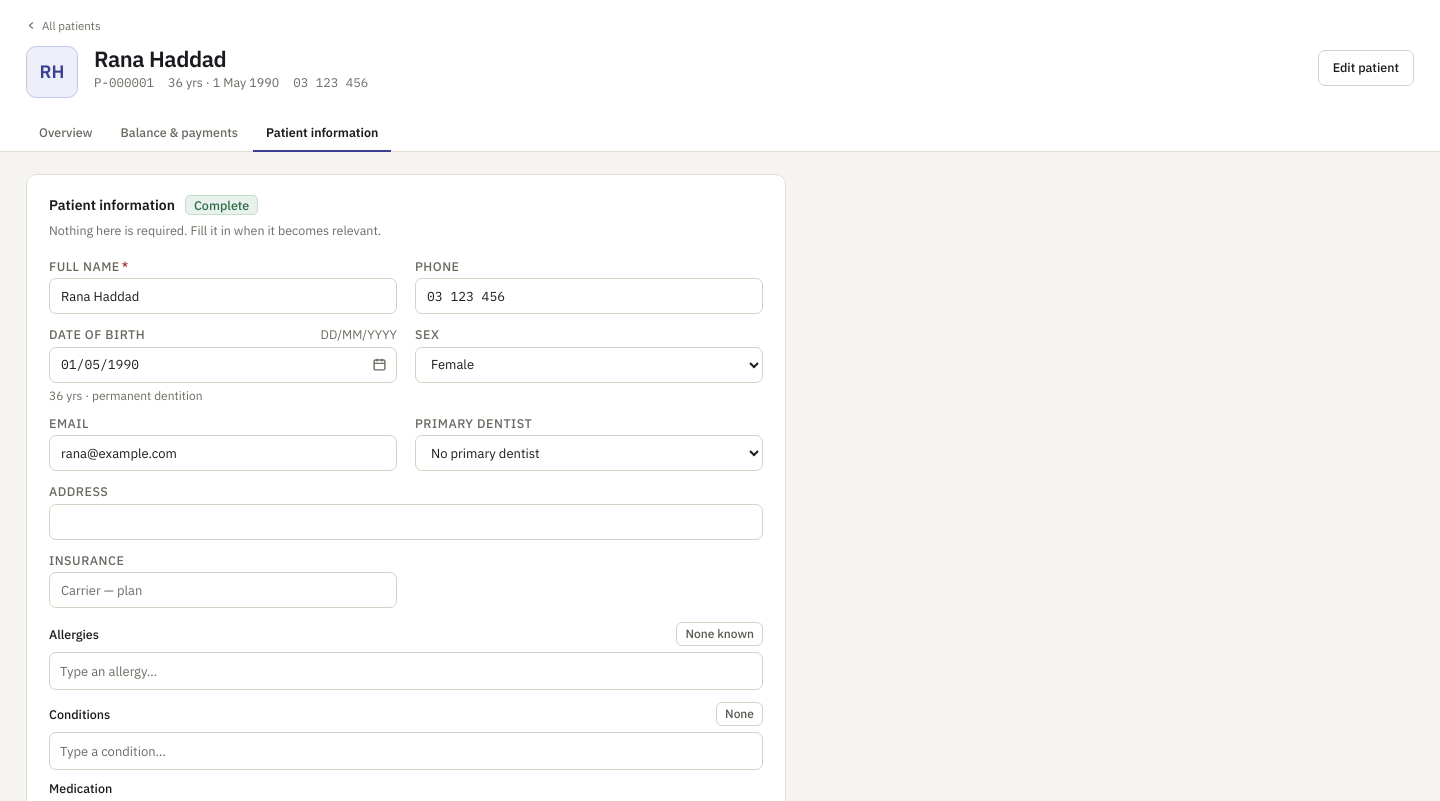
Test: InformationTab › validates before saving, without sending anything
Expected: the text "Nothing here is required. Fill it in when it becomes relevant." is shown, [49, 222, 381, 238]
Step 1. Replace the text in the field labelled "Email" with "not-an-email" → (223,453), box [49, 435, 397, 471]
(page scrolled)
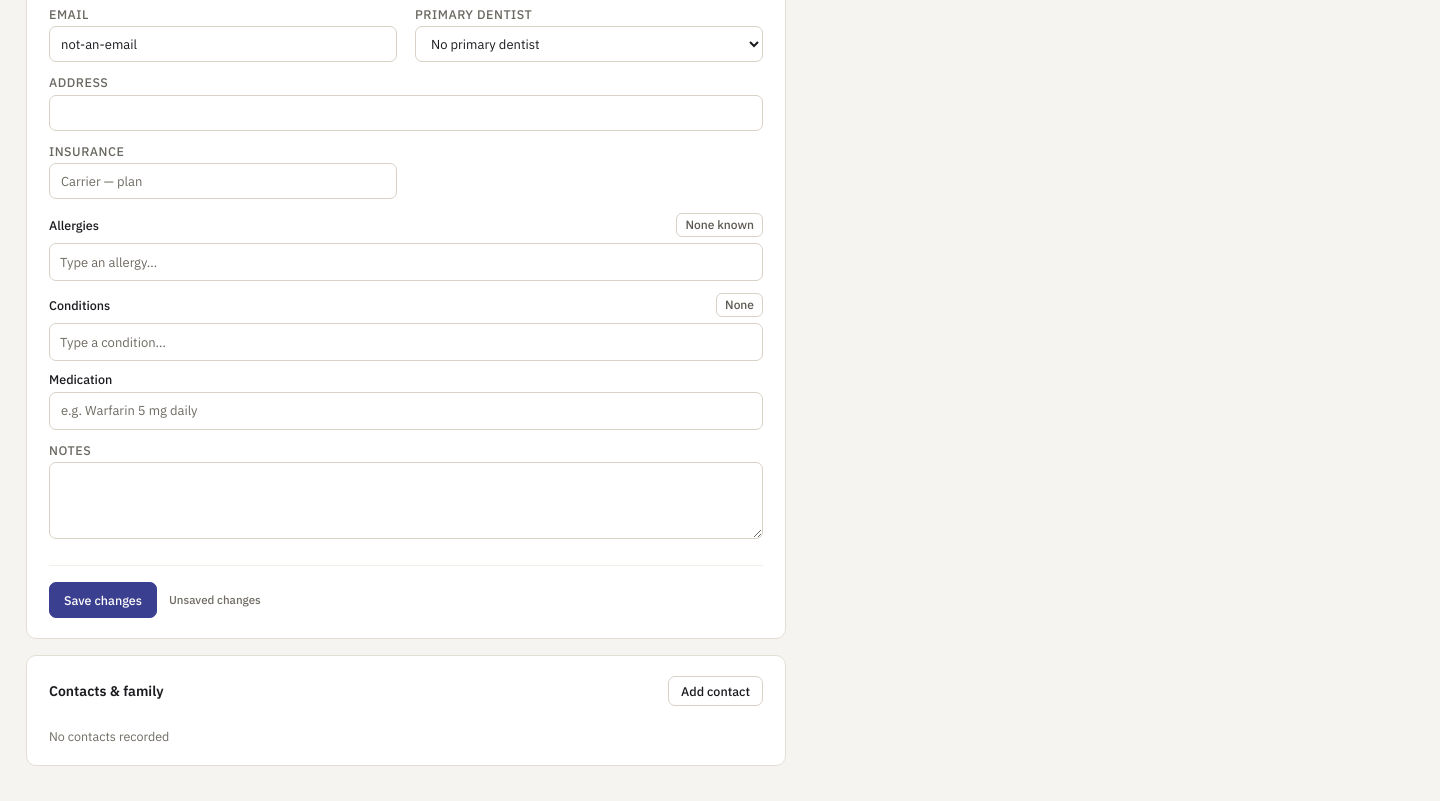
Step 2. Click the button "Save changes" → (103,600), box [49, 582, 157, 618]
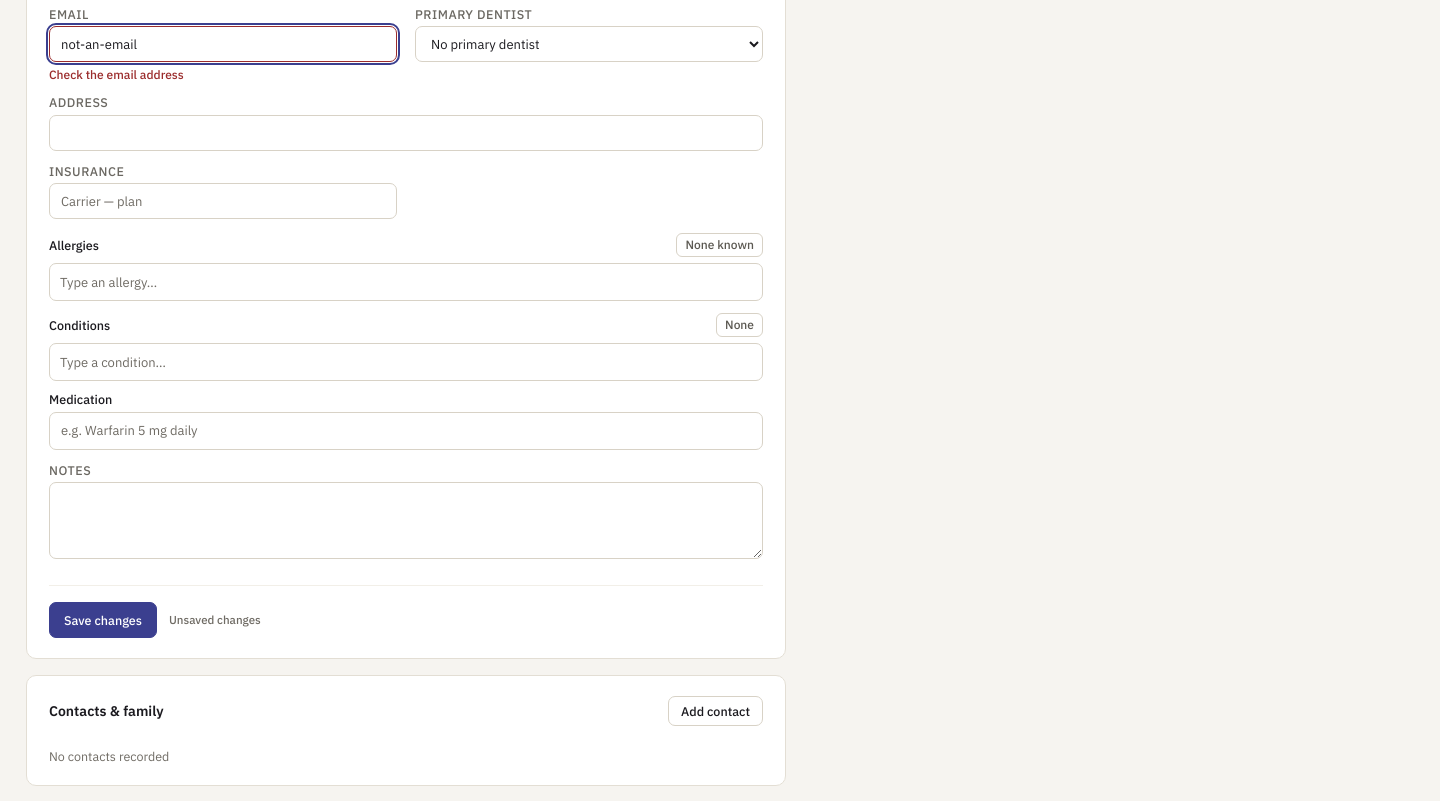
Expected: the text "Check the email address" is shown, [49, 67, 184, 82]
